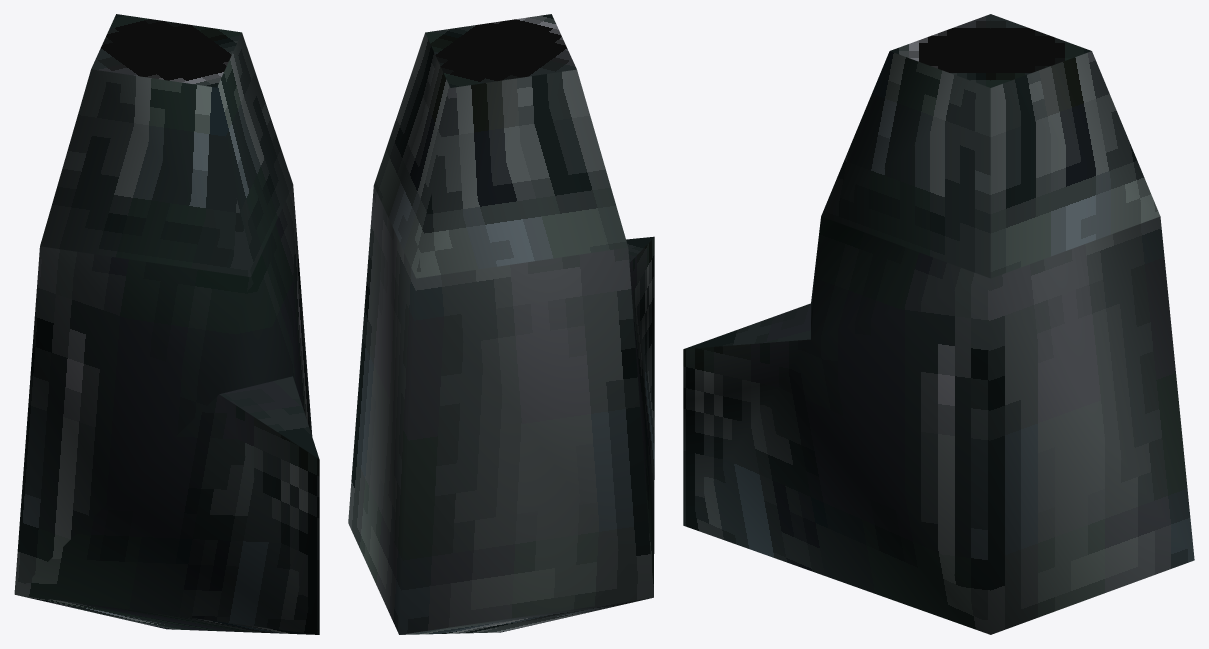
The model's file is wp_muzzle_lg_s03_l2.fbx.
The picture shows the model from 3 angles, left to right: view 1: azimuth 30°, elevation 25°; view 2: azimuth 150°, elevation 25°; view 3: azimuth 270°, elevation 25°; orthographic projection.
Parts seen in each view (by area): view 1: mesh_node; view 2: mesh_node; view 3: mesh_node.
Boxes of the visible parts, x1,y1,x2,y2 form: mesh_node: [14, 14, 319, 634]; mesh_node: [348, 14, 654, 634]; mesh_node: [683, 14, 1194, 634].
Bounding box in the file's own units: 0.0467 × 0.0848 × 0.0676.
Materials: 1 (1 with a texture image).
